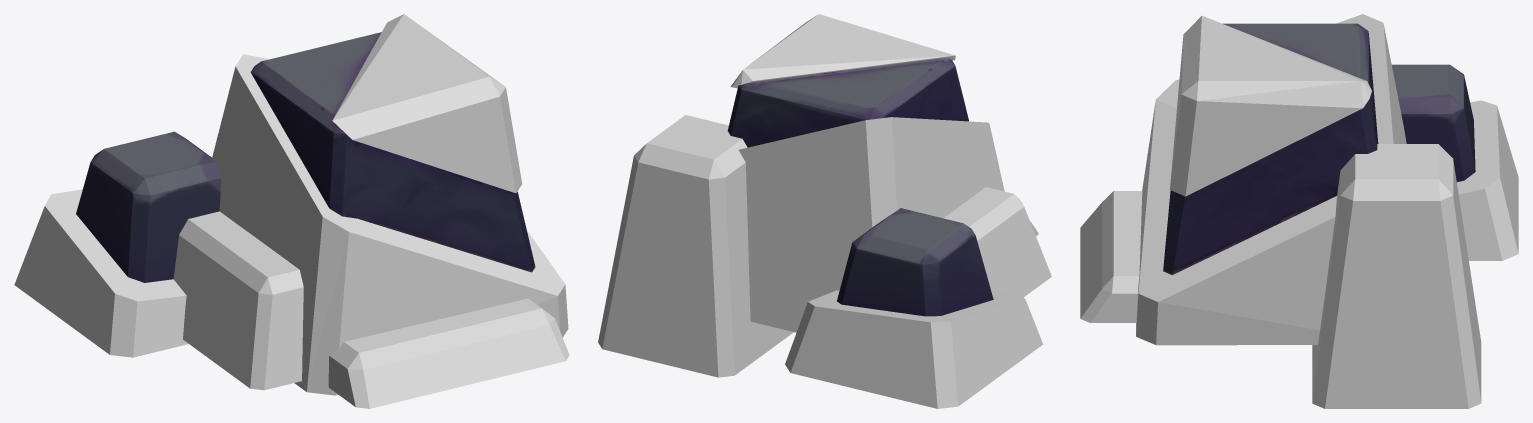
The model's file is Ore_B.fbx.
The picture shows the model from 3 angles, left to right: view 1: azimuth 30°, elevation 25°; view 2: azimuth 150°, elevation 25°; view 3: azimuth 270°, elevation 25°; orthographic projection. The views are drawn at different scales.
Parts seen in each view (by area): view 1: Ore_B; view 2: Ore_B; view 3: Ore_B.
Boxes of the visible parts, x1,y1,x2,y2 form: Ore_B: (14, 14, 569, 408); Ore_B: (598, 14, 1051, 408); Ore_B: (1080, 14, 1518, 408).
Size of the model in its own units: 0.8013 by 0.5283 by 0.754.
